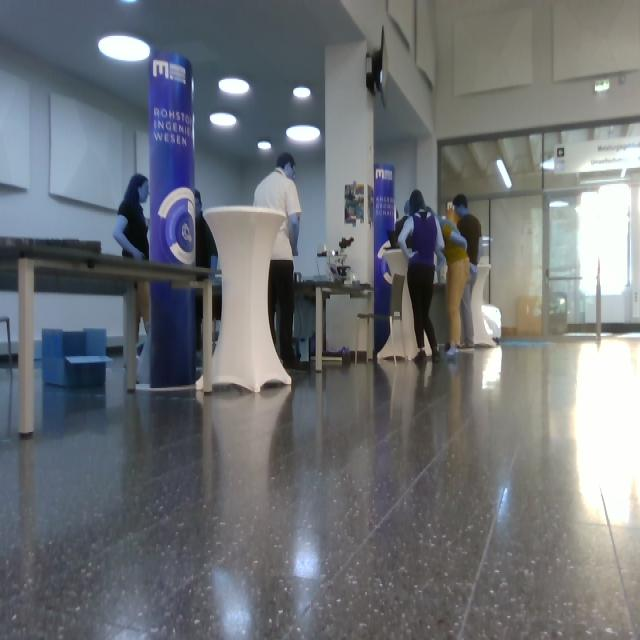door: (544, 184, 639, 337), (490, 193, 544, 337)
light bulb: (158, 186, 196, 265), (98, 33, 151, 62), (286, 125, 321, 142), (219, 77, 250, 96), (496, 158, 513, 189), (210, 112, 237, 128), (293, 87, 311, 99), (594, 80, 610, 93), (258, 140, 272, 150)
person: (253, 152, 302, 370), (398, 190, 447, 364), (113, 174, 151, 369), (452, 193, 483, 349), (437, 212, 470, 357), (194, 189, 219, 353)
pillar: (147, 49, 198, 389), (203, 205, 292, 393)
tiled floor: (1, 333, 640, 640)
